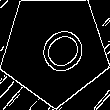O_SW: (23, 17, 87, 82)
